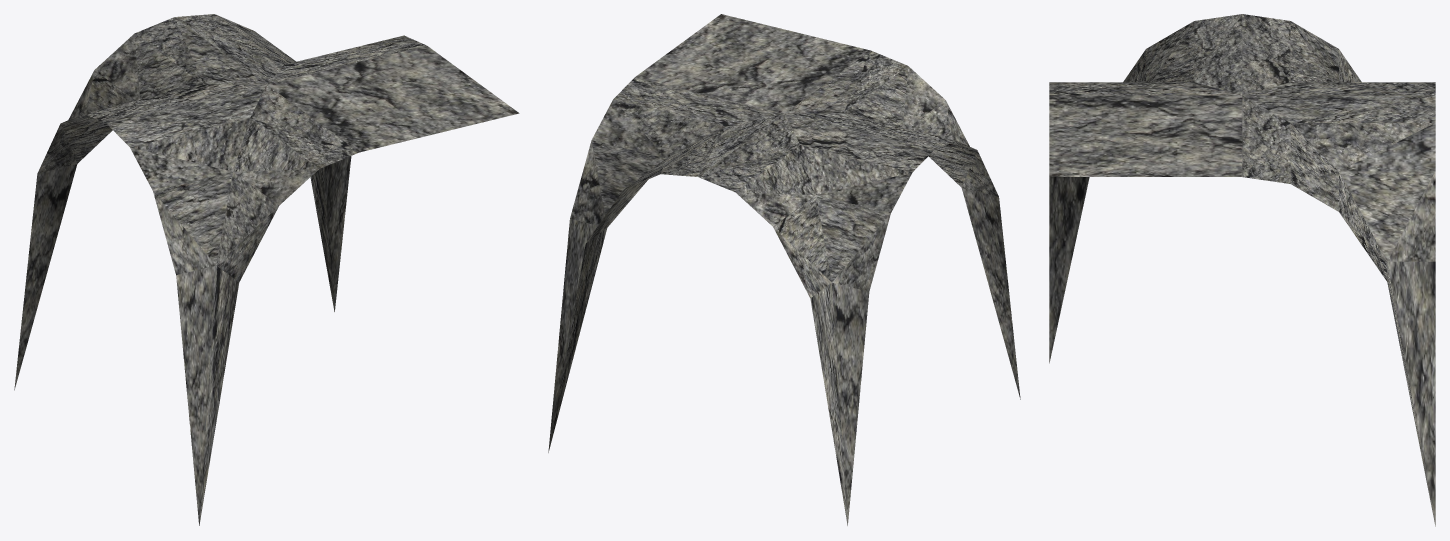
Rendered from Stone4b.obj.
3 renders of one model, left to right at view 1: azimuth 30°, elevation 25°; view 2: azimuth 150°, elevation 25°; view 3: azimuth 270°, elevation 25°, orthographic. The views are drawn at different scales.
Visible parts, largest first — view 1: Grid_Grid.016_Grid_Grid.036; view 2: Grid_Grid.016_Grid_Grid.036; view 3: Grid_Grid.016_Grid_Grid.036.
Part boxes in pixels (x1,y1,x2,y2): Grid_Grid.016_Grid_Grid.036: (14,14,519,525); Grid_Grid.016_Grid_Grid.036: (548,14,1020,525); Grid_Grid.016_Grid_Grid.036: (1049,14,1435,526).
Bounding box in the file's own units: 1 × 1 × 1.
Materials: 1 (1 with a texture image).
